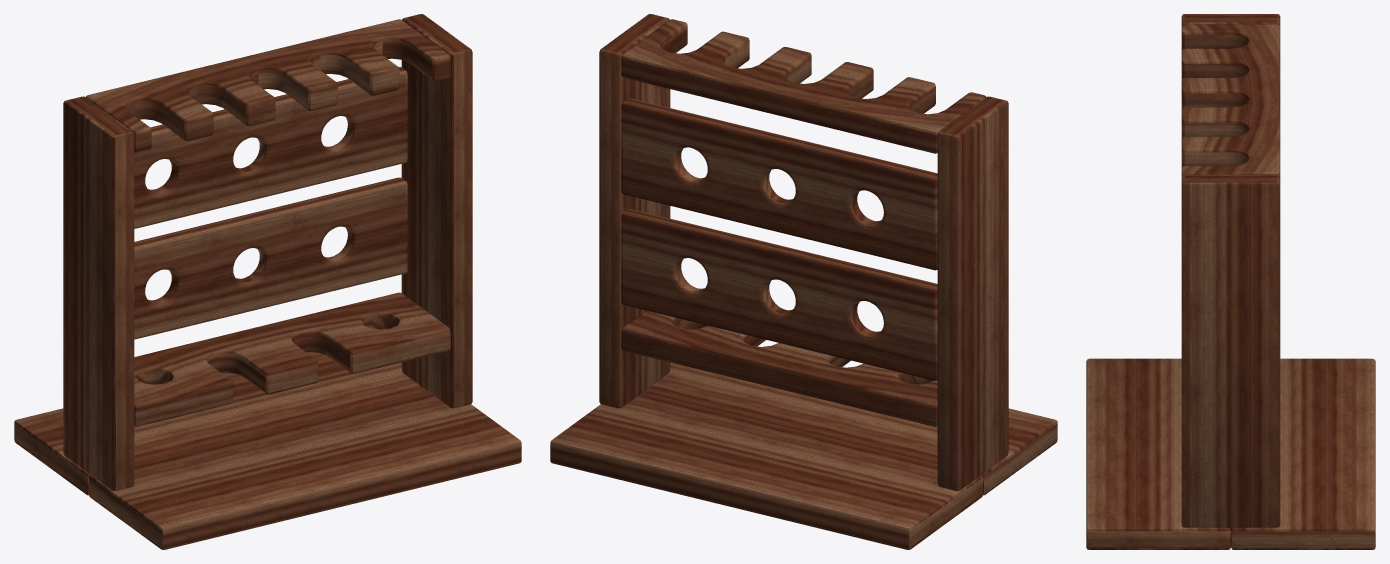
File: shkaff_wine_verh_.FBX
3 renders of one model, left to right at view 1: azimuth 30°, elevation 25°; view 2: azimuth 150°, elevation 25°; view 3: azimuth 270°, elevation 25°, orthographic. The views are drawn at different scales.
Visible parts, largest first — view 1: shkaff_wine_verh_; view 2: shkaff_wine_verh_; view 3: shkaff_wine_verh_.
Part boxes in pixels (x1,y1,x2,y2): shkaff_wine_verh_: [14, 14, 521, 549]; shkaff_wine_verh_: [550, 14, 1057, 549]; shkaff_wine_verh_: [1086, 14, 1375, 549].
Size of the model in its own units: 409 by 410 by 293.
1 material, 1 textured.
